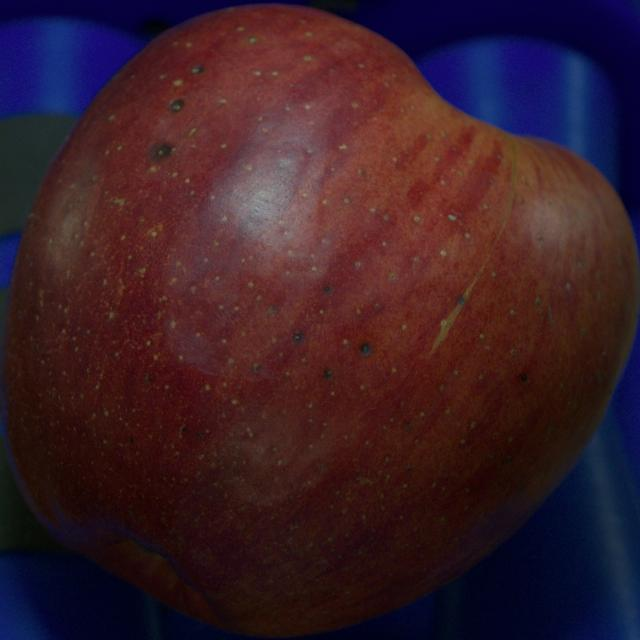apple: (3, 6, 639, 636)
pest: (156, 144, 171, 157), (171, 99, 183, 111), (360, 342, 371, 355), (292, 331, 304, 342), (191, 65, 203, 74), (323, 369, 332, 379), (458, 296, 465, 306), (252, 363, 259, 372), (522, 374, 528, 381), (324, 286, 331, 292), (144, 376, 151, 382)
scratch: (431, 266, 484, 353)
